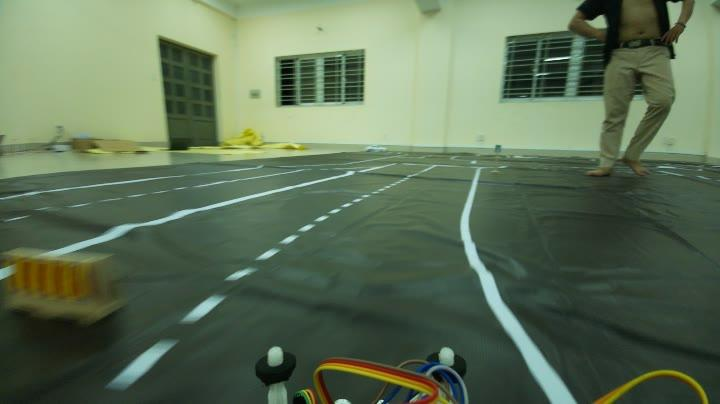roadblock: (5, 245, 122, 324)
